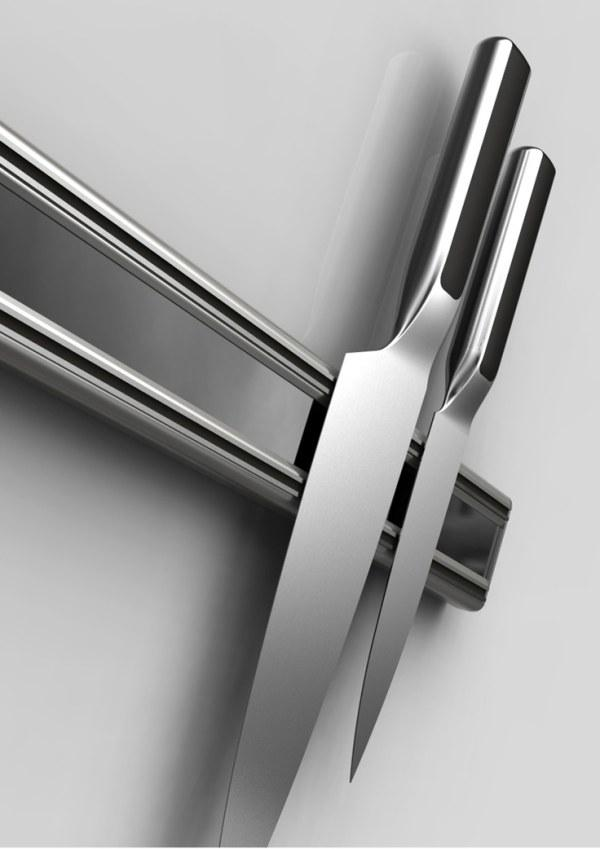knife: (217, 33, 573, 849)
